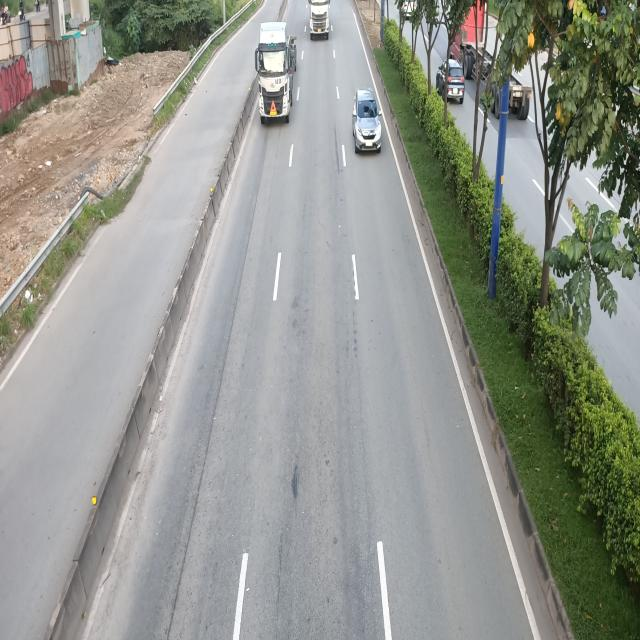car: (352, 86, 382, 152)
container: (254, 21, 298, 124)
